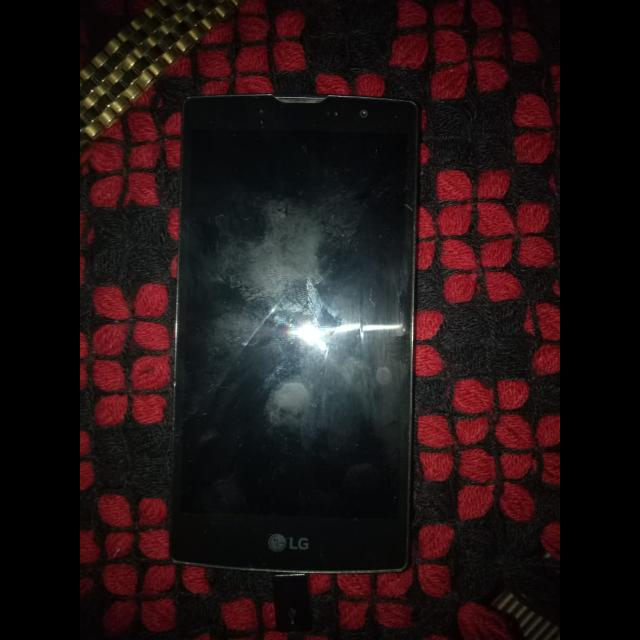Smartphone: (152, 76, 436, 584)
